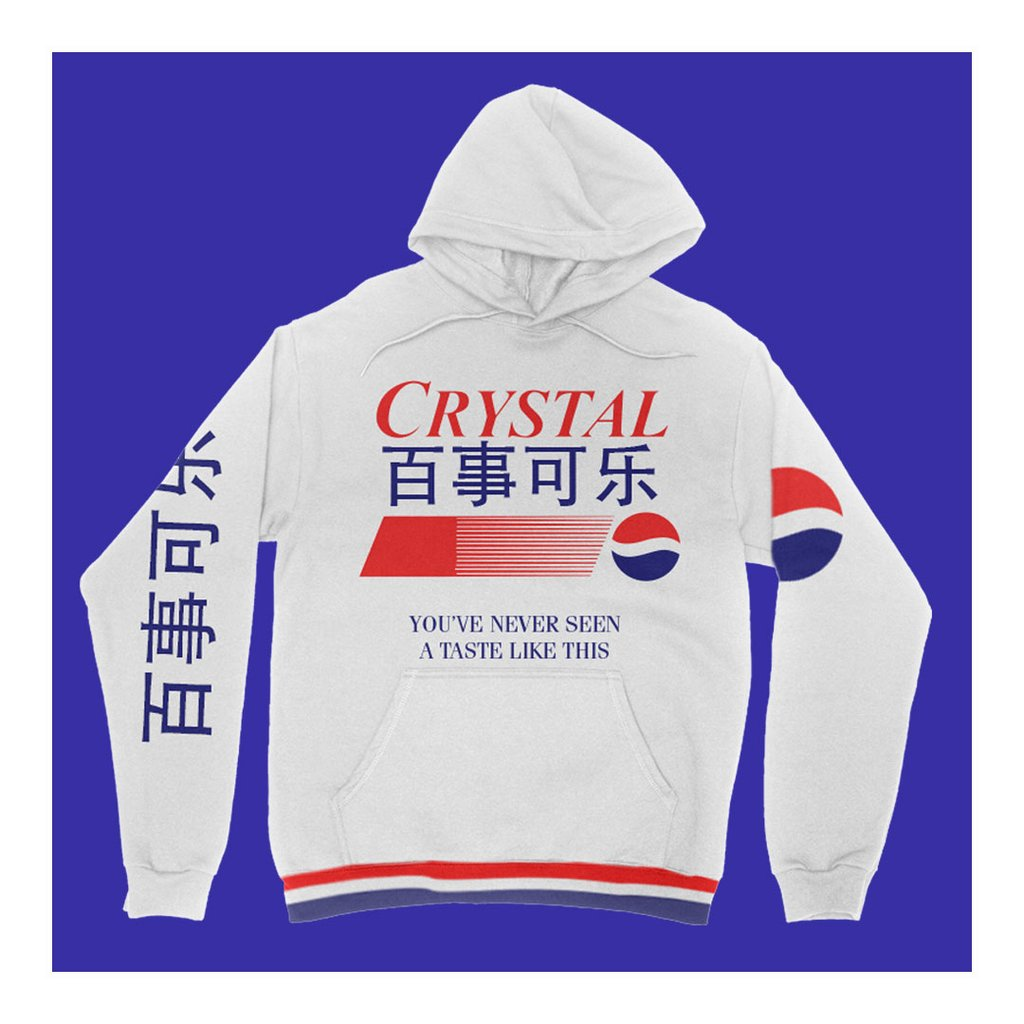pepsi: (762, 463, 846, 579), (612, 508, 678, 575)
